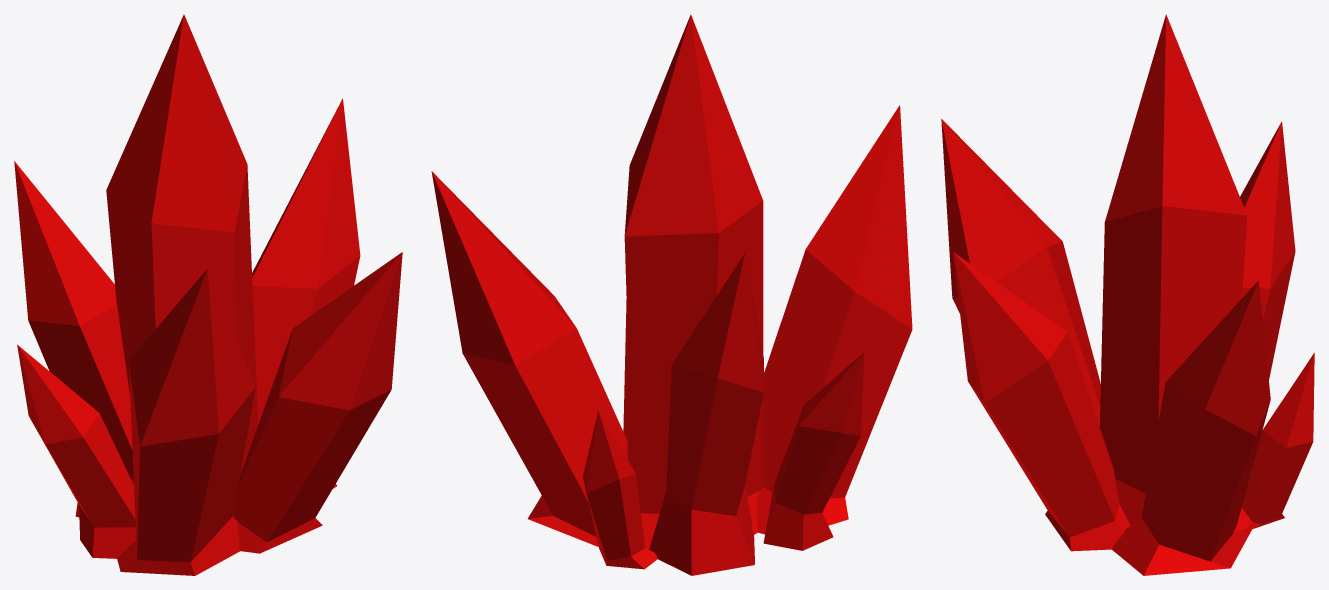
Rendered from G-Item Permata Pedang.fbx.
The picture shows the model from 3 angles, left to right: view 1: azimuth 30°, elevation 25°; view 2: azimuth 150°, elevation 25°; view 3: azimuth 270°, elevation 25°; orthographic projection. The views are drawn at different scales.
Visible parts, largest first — view 1: Сrystal_4; view 2: Сrystal_4; view 3: Сrystal_4.
Part boxes in pixels (x1,y1,x2,y2): Сrystal_4: [14, 14, 402, 575]; Сrystal_4: [431, 14, 912, 575]; Сrystal_4: [941, 14, 1314, 575].
Size of the model in its own units: 87.14 by 112 by 76.2.
